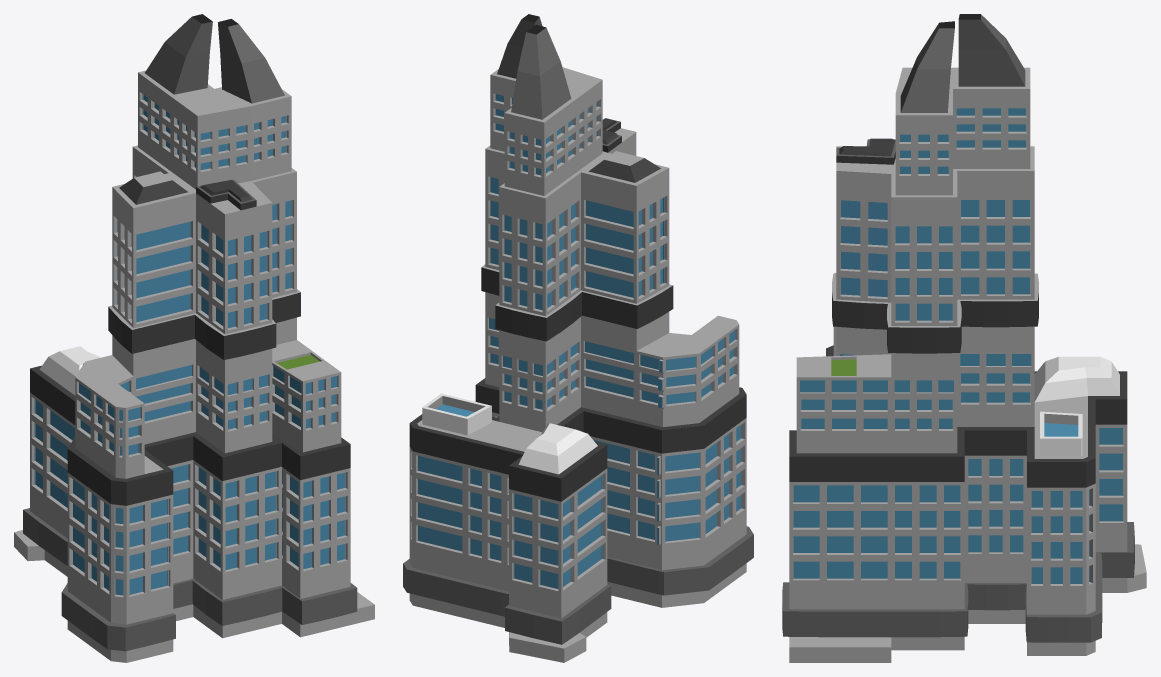
Rendered from skyscraperreal.fbx.
The picture shows the model from 3 angles, left to right: view 1: azimuth 30°, elevation 25°; view 2: azimuth 150°, elevation 25°; view 3: azimuth 270°, elevation 25°; orthographic projection. The views are drawn at different scales.
Visible parts, largest first — view 1: Cube; view 2: Cube; view 3: Cube.
Boxes of the visible parts, x1,y1,x2,y2 form: Cube: (14,14,374,662); Cube: (403,14,753,662); Cube: (782,14,1146,662).
Size of the model in its own units: 13.21 by 15.78 by 28.67.
